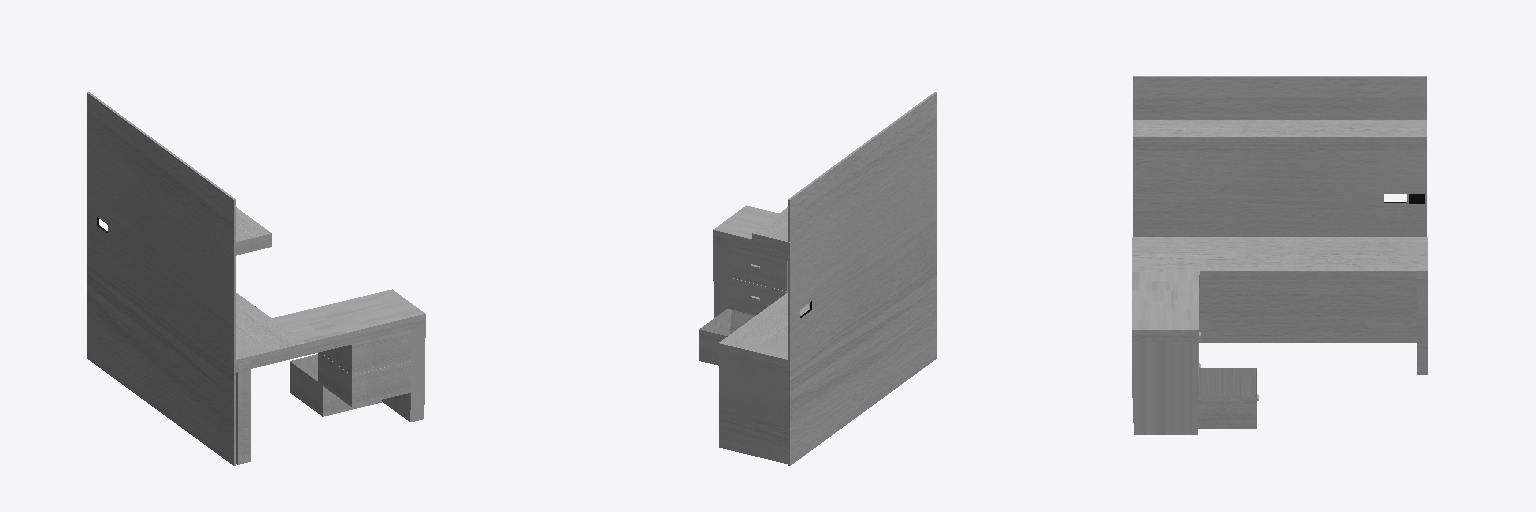
3 views of the same model, side by side, from view 1: azimuth 30°, elevation 25°; view 2: azimuth 150°, elevation 25°; view 3: azimuth 270°, elevation 25° (orthographic).
Visible parts, largest first — view 1: Estante, Mesa, Cajón_2, Cajón_1, Cajón_3, Techo; view 2: Estante, Mesa, Cajón_1, Cajón_3, Cajón_2, Techo; view 3: Estante, Mesa, Techo, Cajón_3.
Boxes of the visible parts, box(x1,y1,x2,y2) form: Estante: box(87, 92, 235, 465); Mesa: box(235, 289, 425, 464); Cajón_2: box(318, 352, 410, 406); Cajón_1: box(320, 330, 410, 374); Cajón_3: box(290, 354, 381, 416); Techo: box(234, 207, 271, 255); Estante: box(788, 92, 936, 465); Mesa: box(713, 205, 808, 464); Cajón_1: box(728, 246, 787, 290); Cajón_3: box(699, 309, 754, 365); Cajón_2: box(728, 277, 787, 315); Techo: box(752, 207, 789, 255); Estante: box(1133, 76, 1426, 342); Mesa: box(1132, 237, 1427, 434); Techo: box(1133, 120, 1426, 150); Cajón_3: box(1198, 368, 1258, 428).
Bounding box in the file's own units: 8.5 × 11.31 × 11.39.
Materials: 8 (1 with a texture image).